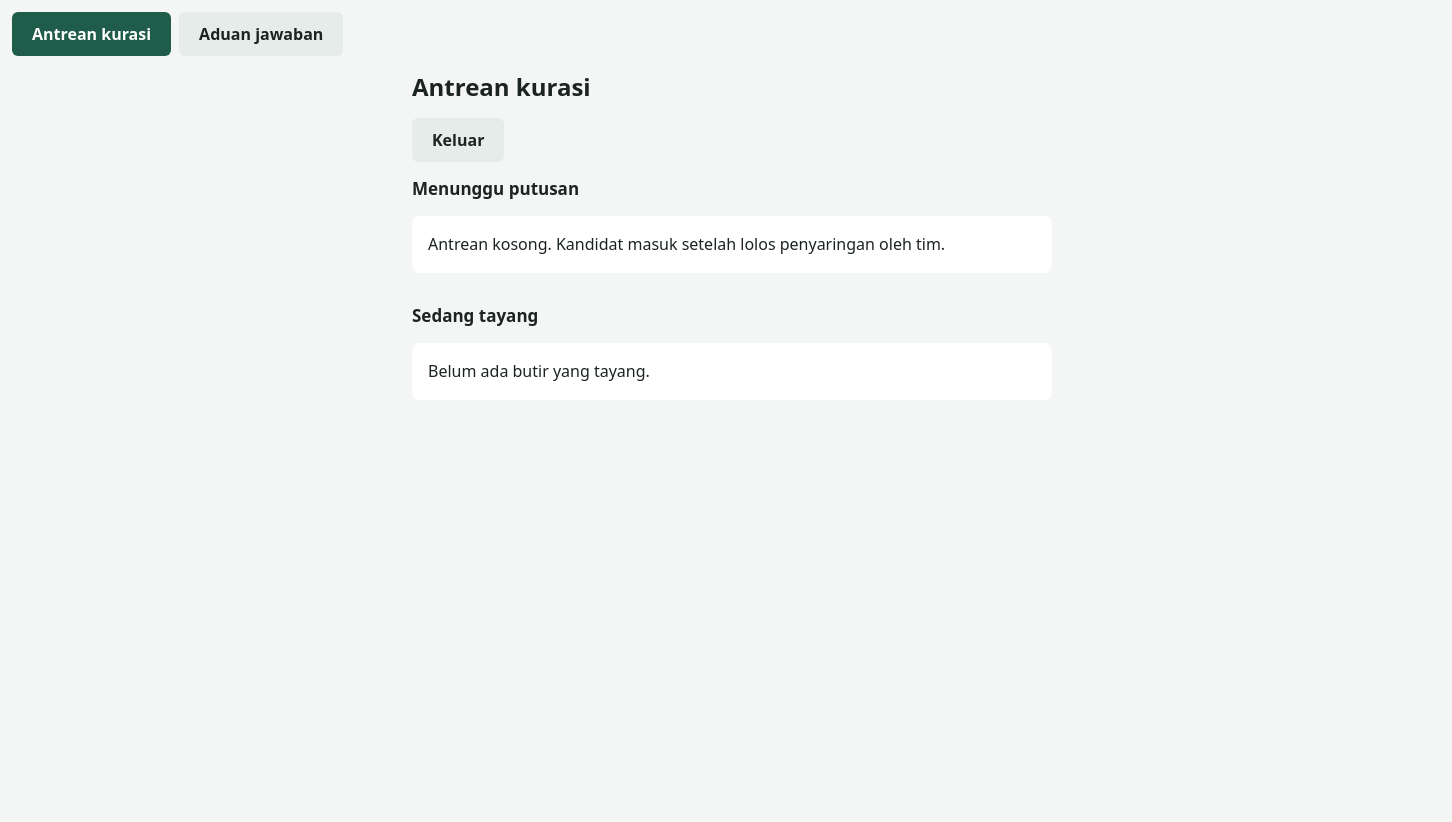
Test: S-17 › tanpa alasan dan antrean kosong bernama
The image size is (1452, 822).
Later steps or results of the test are not shown.
Expected: the heading "Antrean kurasi" is shown, [412,70,591,103]
Click the button "Aduan jawaban".
click(261, 34)  # box [179,12,343,56]
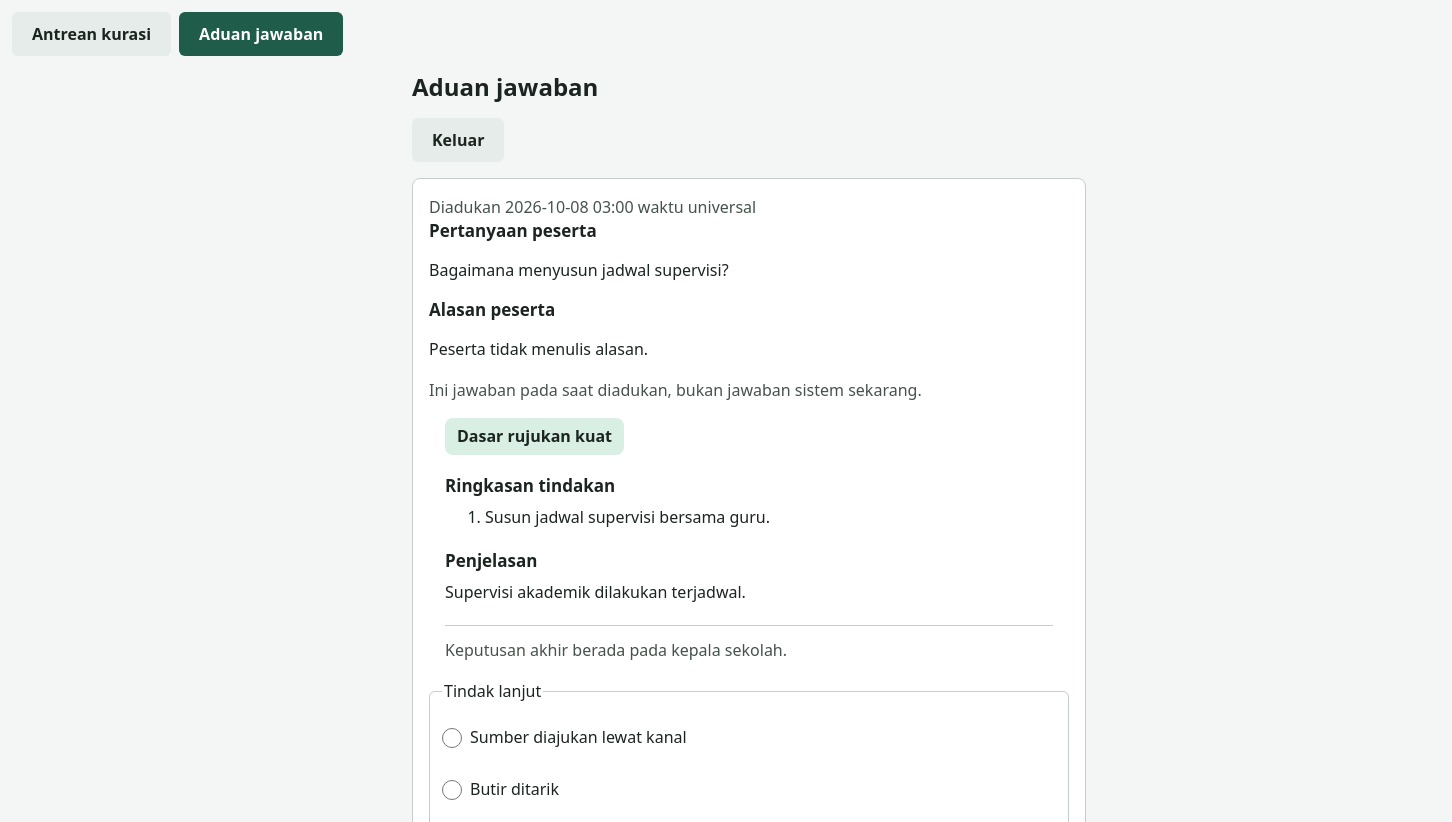
Expected: the heading "Aduan jawaban" is shown, [412,70,598,103]
Expected: the text "Peserta tidak menulis alasan." is shown, [429,338,648,360]
